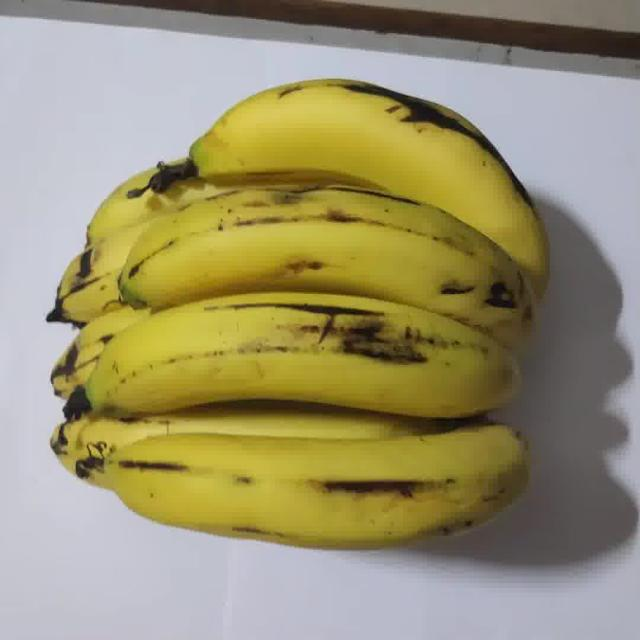banana_pacche: (16, 59, 570, 595)
